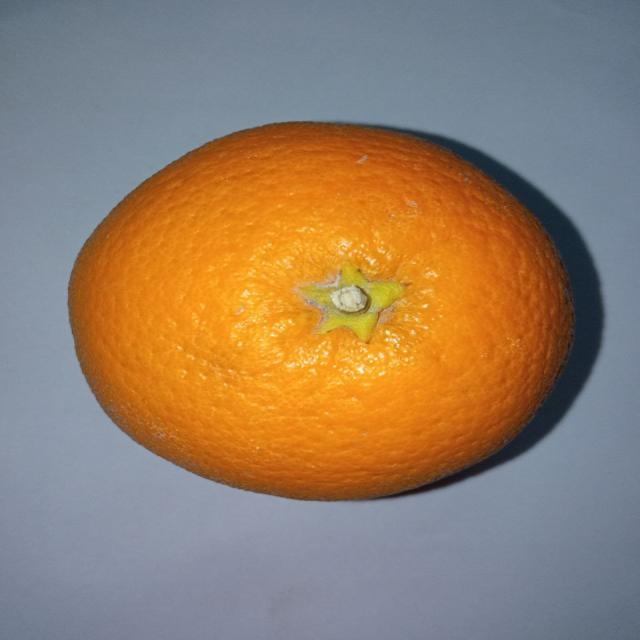fresh_orange: (67, 123, 575, 501)
